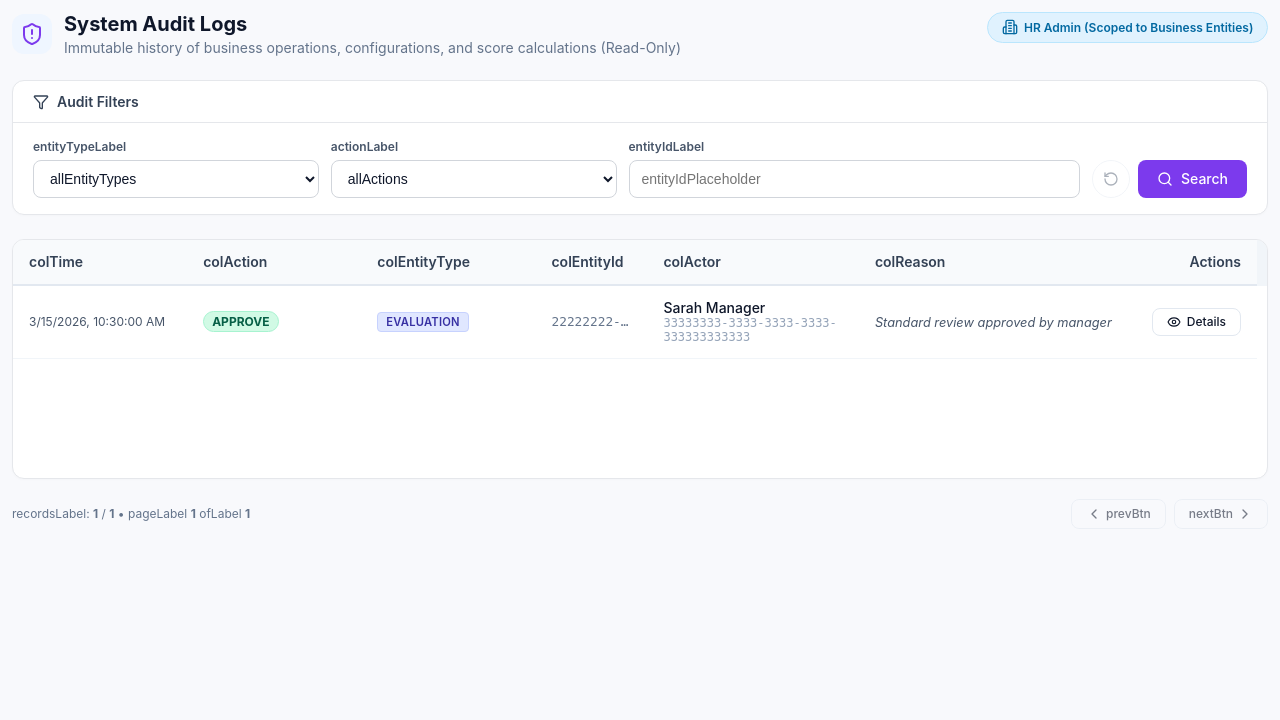
Test: AuditLogPage Frontend Tests (TC24 - TC26) › TC25: Opens read-only detail modal with before/after diffs and no mutation controls
Click "Details"
Click the button "Details" at (1196, 322), box [1152,308,1241,336]
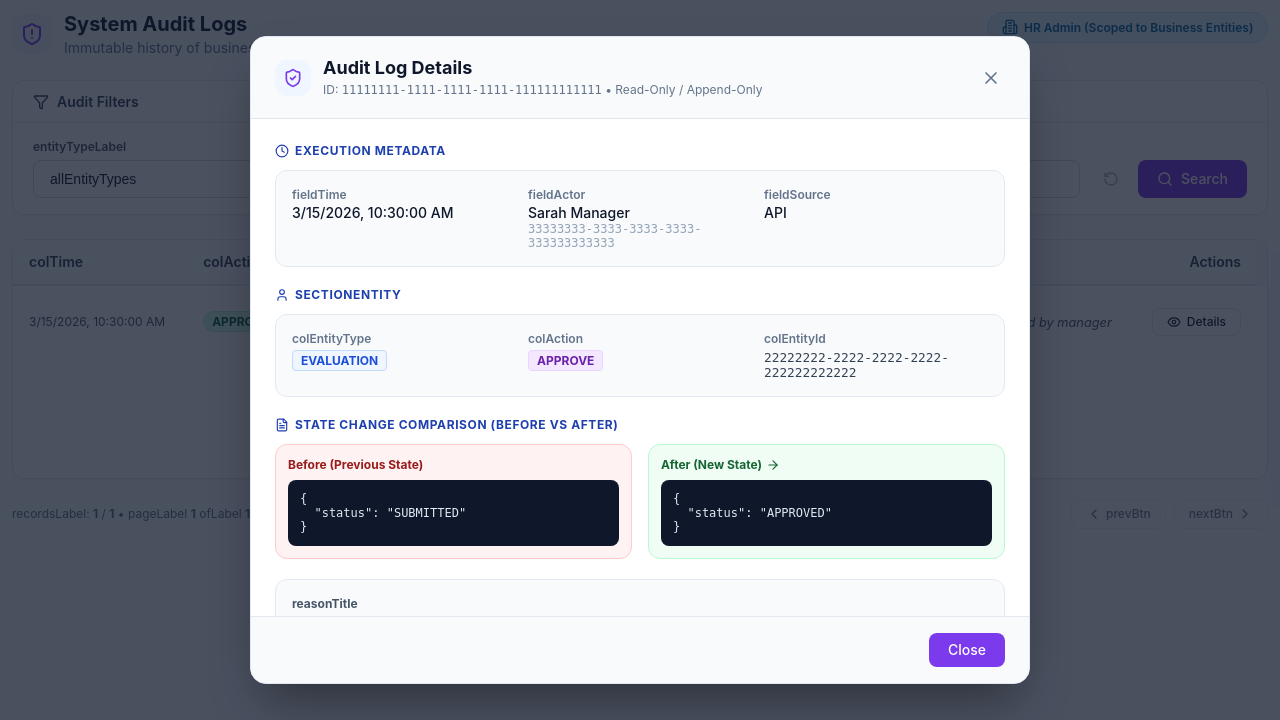
expect the heading "Audit Log Details" is shown: met, box [323,57,472,78]
expect the text "Read-Only / Append-Only" is shown: met, box [615,82,762,97]
expect the text "Before (Previous State)" is shown: met, box [288,457,423,472]
Close modal
Click the button named "close" at (991, 78), box [977,64,1005,92]
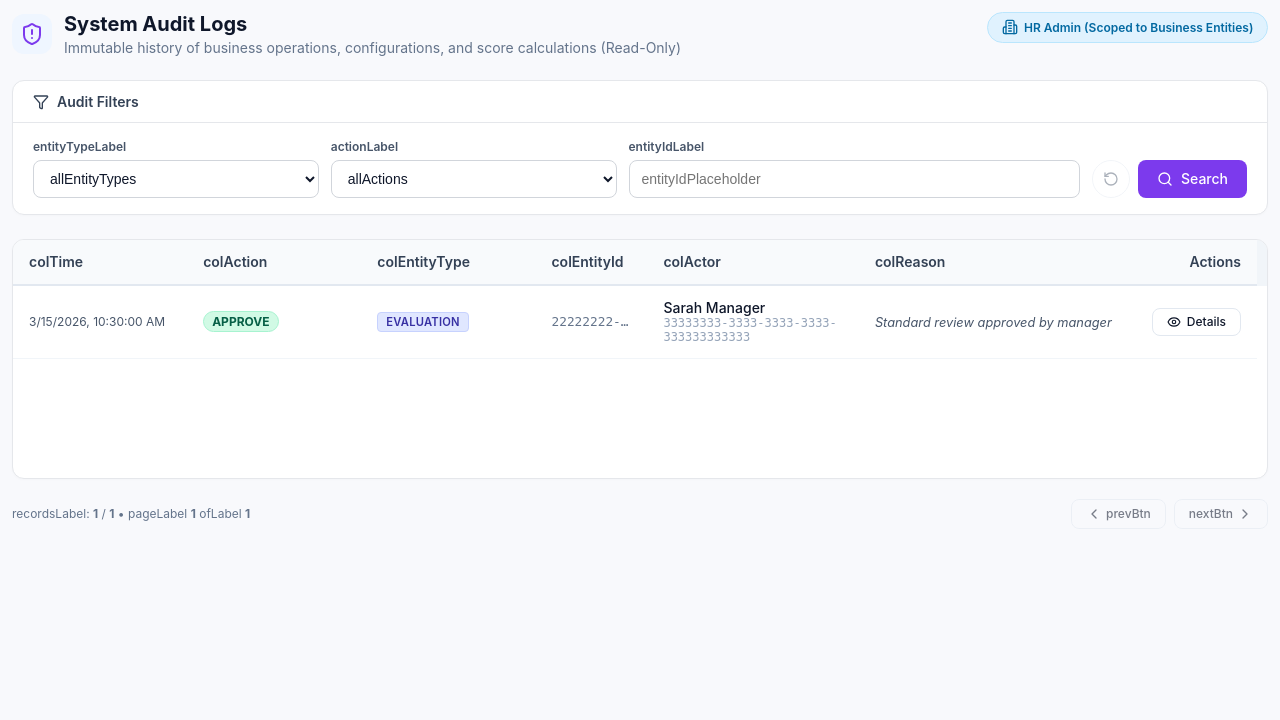
expect the heading "Audit Log Details" is gone: met
